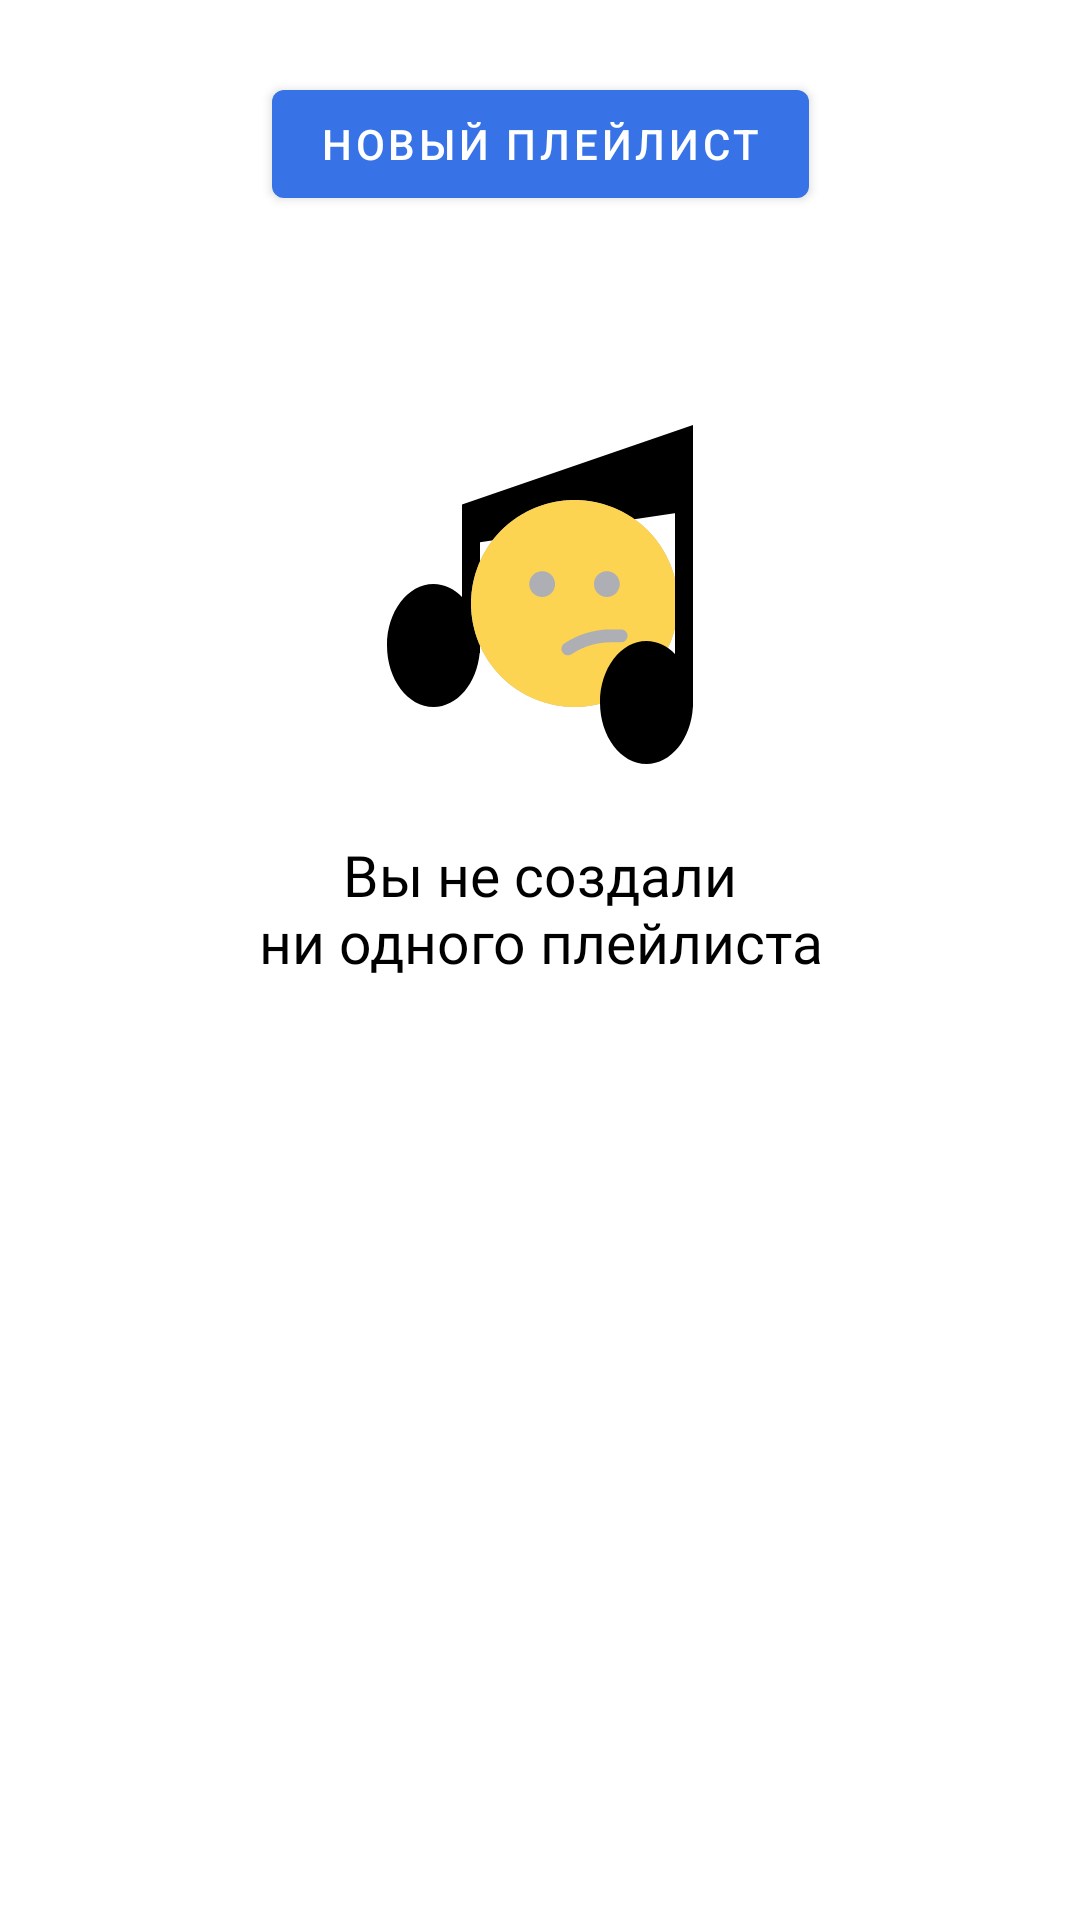

Point at icon controls on the screen. Image size 1080w x 1920h, points as (x=x, y=y).
nothingfound: (x=540, y=594)
